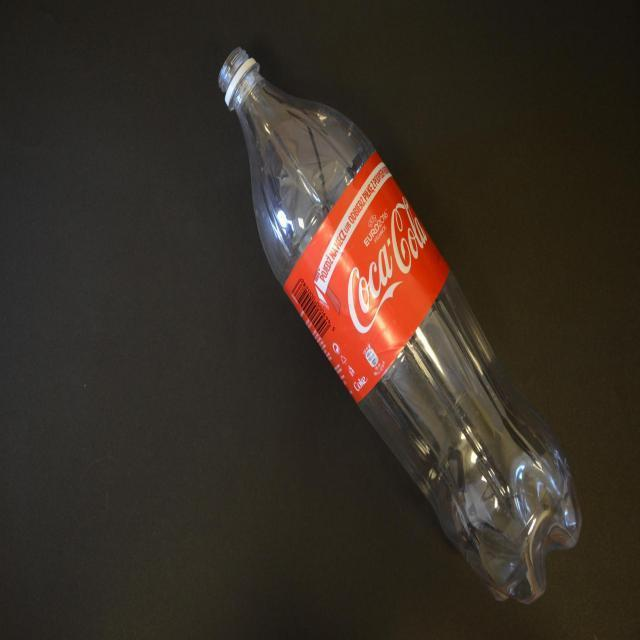plastic_bottle: (218, 45, 584, 604)
